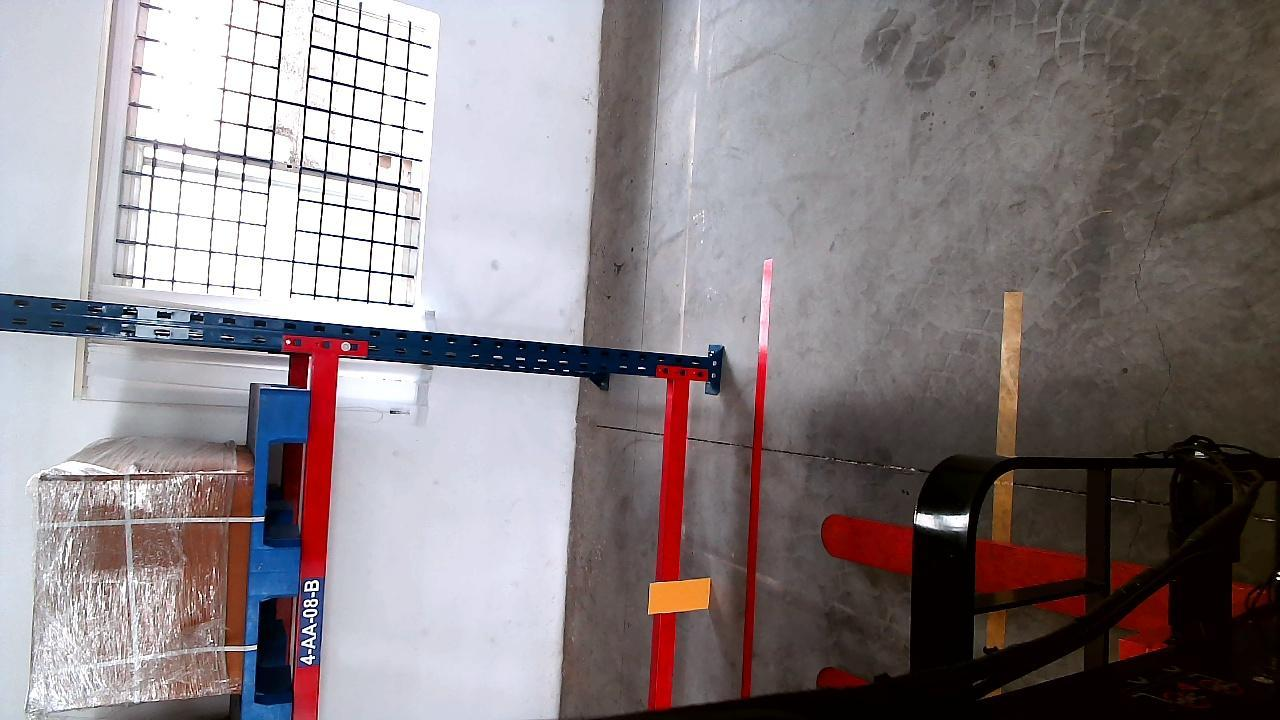red_line: (742, 257, 774, 698)
yellow_line: (992, 288, 1021, 545)
